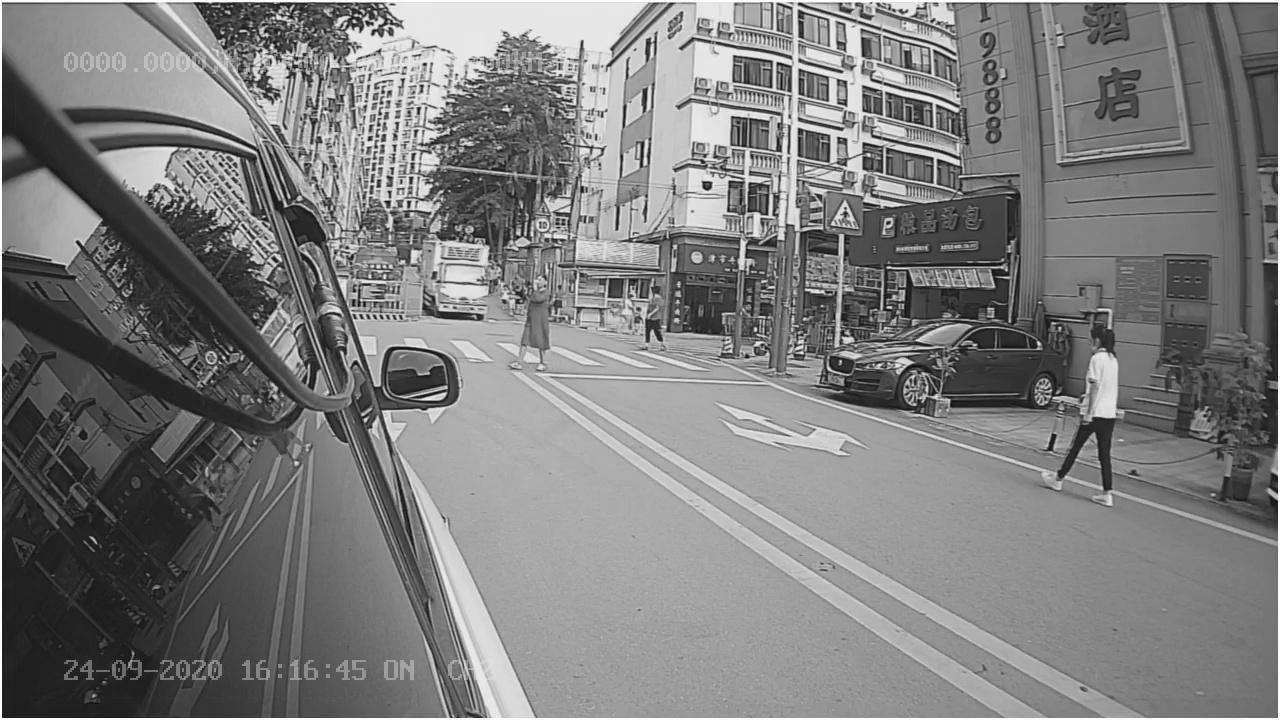person: (1033, 316, 1151, 523)
